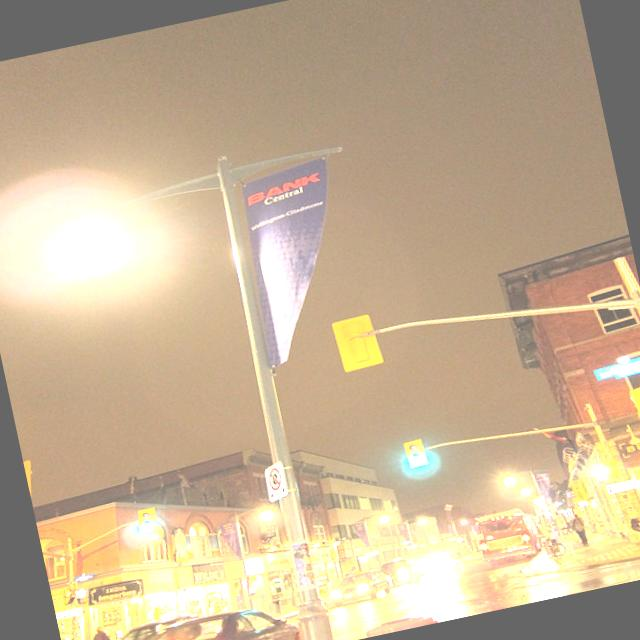Vehicle: (95, 595, 301, 640), (472, 506, 545, 564), (77, 615, 198, 640), (328, 568, 394, 608), (380, 556, 420, 586), (413, 548, 454, 576)
